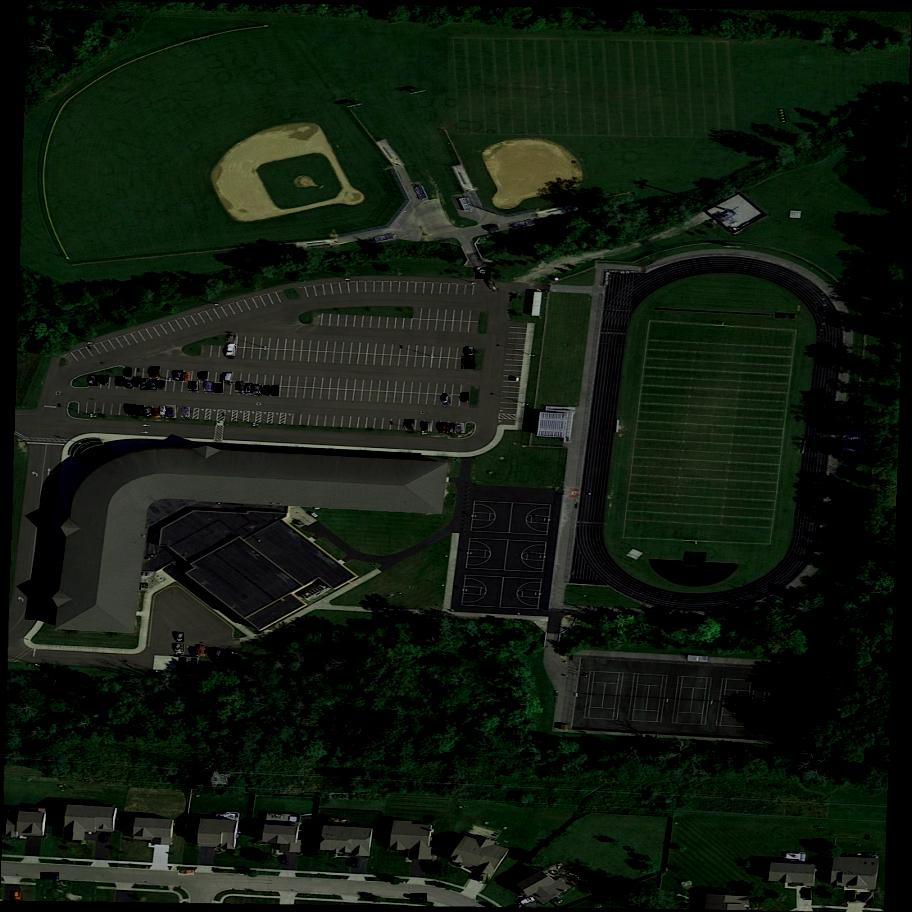small-vehicle: (858, 891, 874, 907), (476, 265, 492, 281), (40, 872, 59, 882), (462, 356, 475, 370), (409, 893, 427, 903), (519, 897, 536, 907), (166, 405, 178, 419), (226, 333, 238, 346), (224, 371, 235, 385), (173, 370, 184, 383), (848, 890, 858, 904), (438, 422, 449, 434), (206, 648, 217, 659), (150, 367, 160, 379), (132, 377, 142, 389), (140, 378, 150, 390), (89, 375, 99, 386), (188, 382, 199, 392), (197, 645, 207, 656), (236, 382, 247, 392), (99, 375, 109, 385), (215, 383, 224, 394), (227, 344, 235, 356), (115, 376, 125, 385), (136, 406, 145, 416), (204, 381, 213, 391), (455, 423, 464, 433), (150, 380, 158, 391), (144, 407, 152, 418), (804, 888, 812, 899), (125, 380, 134, 389), (190, 647, 199, 656), (160, 407, 168, 417), (176, 632, 184, 642), (178, 870, 194, 875), (466, 347, 474, 357), (182, 407, 190, 417), (200, 371, 208, 380), (127, 405, 135, 414), (421, 422, 429, 431), (253, 385, 261, 394), (443, 393, 449, 404), (183, 372, 190, 381), (480, 874, 487, 883), (446, 423, 453, 432), (152, 408, 160, 415), (405, 420, 413, 427), (272, 386, 278, 395), (246, 384, 252, 393), (462, 393, 469, 400), (280, 856, 286, 864), (216, 650, 222, 658), (264, 386, 269, 395), (176, 645, 183, 651)
